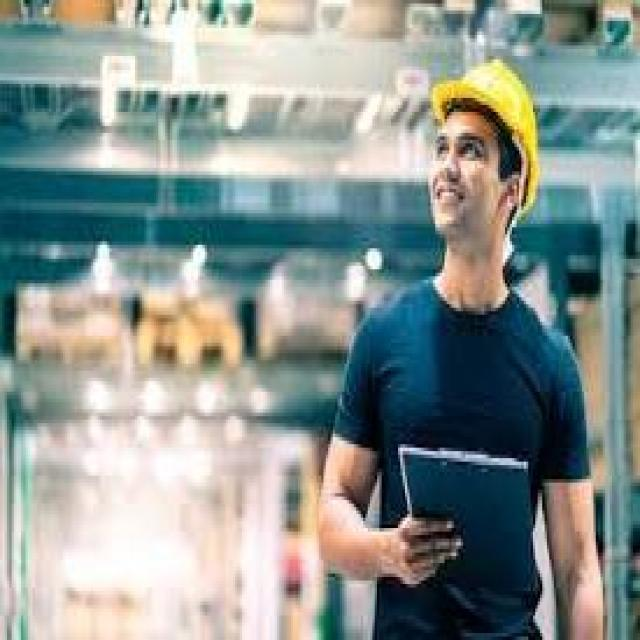safety_helmet: (418, 52, 549, 206)
